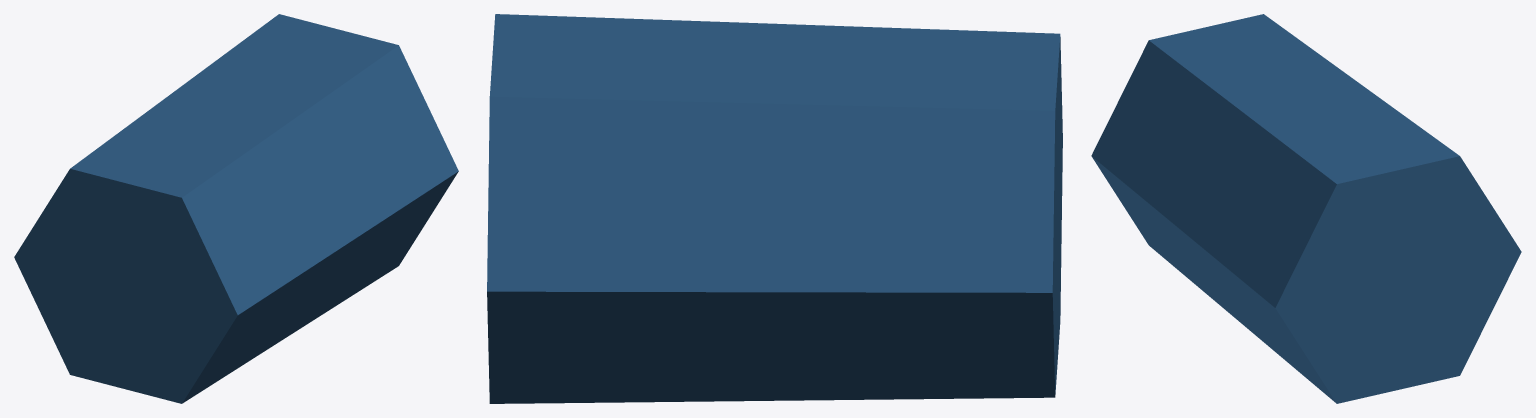
File: rm2_leg_fr_coxa.obj
3 renders of one model, left to right at view 1: azimuth 30°, elevation 25°; view 2: azimuth 150°, elevation 25°; view 3: azimuth 270°, elevation 25°, orthographic. The views are drawn at different scales.
Parts seen in each view (by area): view 1: rm2_leg_fr_coxa; view 2: rm2_leg_fr_coxa; view 3: rm2_leg_fr_coxa.
Part boxes in pixels (x1=…): rm2_leg_fr_coxa: x1=14, y1=14, x2=458, y2=403; rm2_leg_fr_coxa: x1=487, y1=14, x2=1062, y2=403; rm2_leg_fr_coxa: x1=1091, y1=14, x2=1521, y2=403.
Size of the model in its own units: 0.1557 by 0.0779 by 0.1384.
